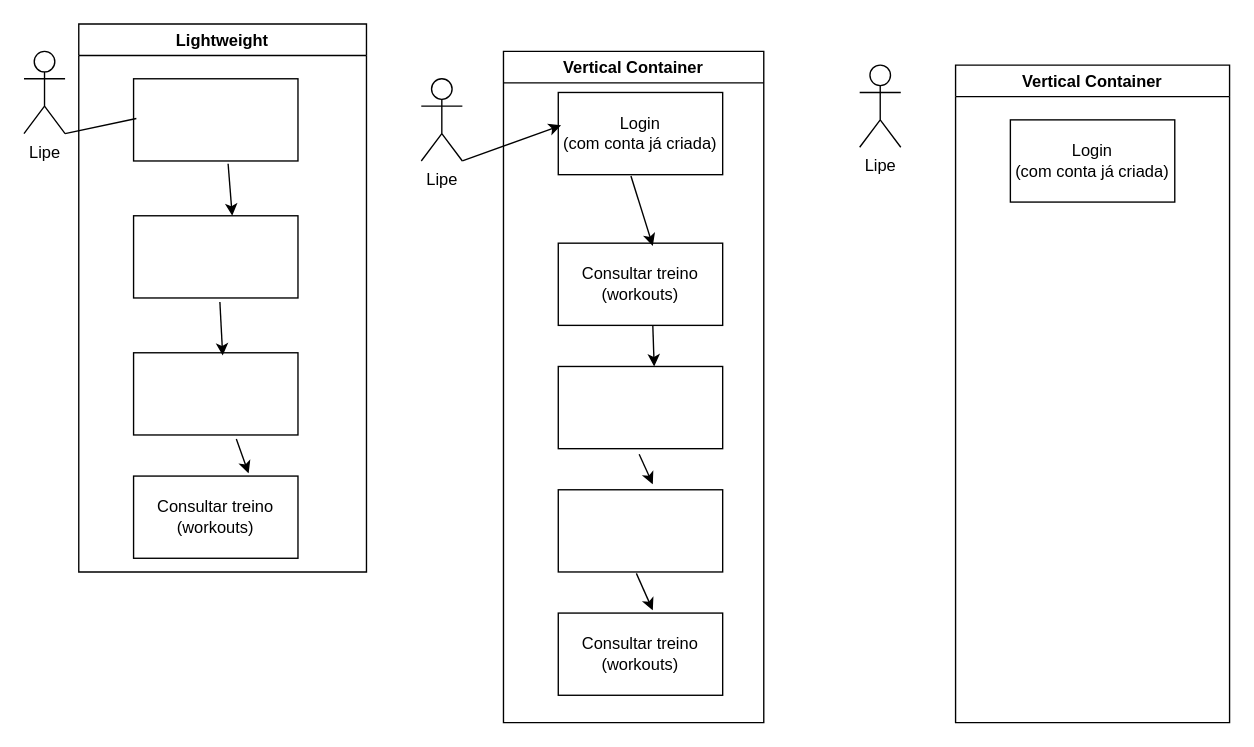
Some shapes in this 1254 by 747 pixel diagram are drawn without their labels. Each missing label, with the centre of its shape:
"Criar conta (users)" belongs at (215,119).
"Excluir treino (workouts)" belongs at (640,407).
"Incluir treino (workouts)" belongs at (640,530).
"Inserir treino (workouts)" belongs at (215,393).
"Login (users)" belongs at (215,256).
